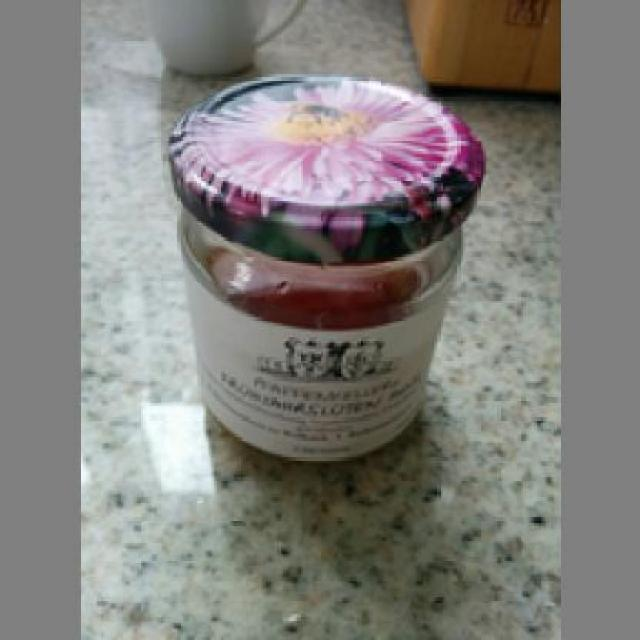Honey: (155, 66, 494, 474)
